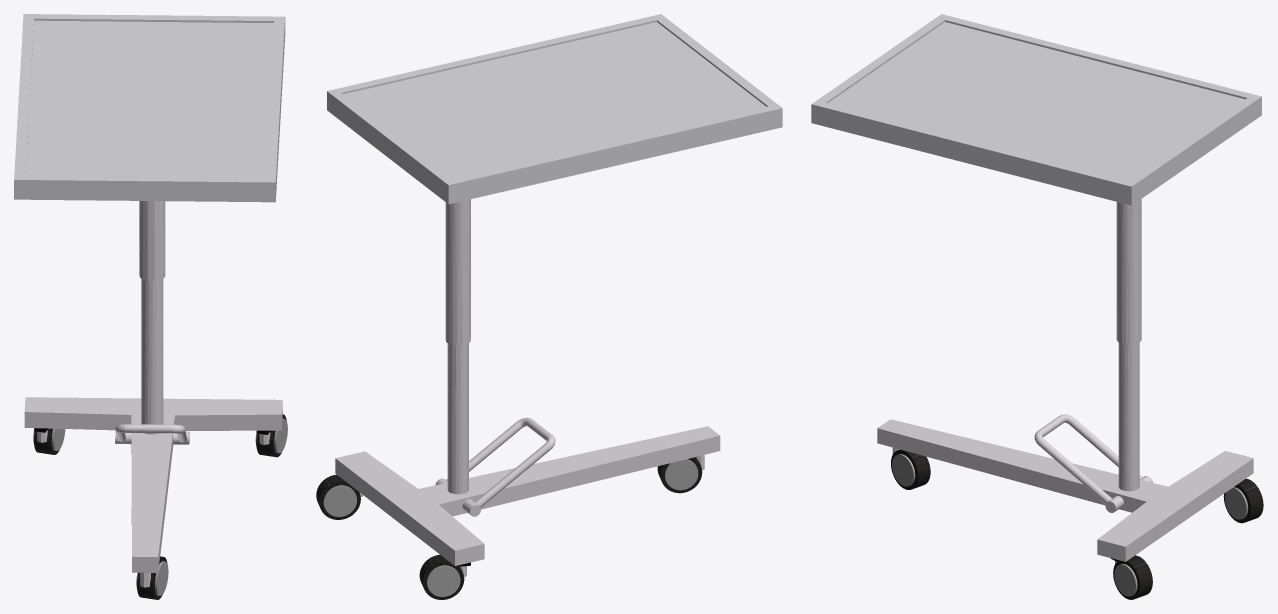
File: Instrumententisch.fbx
The picture shows the model from 3 angles, left to right: view 1: azimuth 30°, elevation 25°; view 2: azimuth 150°, elevation 25°; view 3: azimuth 270°, elevation 25°; orthographic projection. The views are drawn at different scales.
Visible parts, largest first — view 1: Stahl, rostfrei, Metal - Stainless Steel, Asphalt, Farbe, grau; view 2: Stahl, rostfrei, Metal - Stainless Steel, Farbe, grau, Asphalt; view 3: Stahl, rostfrei, Metal - Stainless Steel, Asphalt, Farbe, grau.
Part boxes in pixels (x1,y1,x2,y2): Stahl, rostfrei: [14, 14, 285, 202]; Metal - Stainless Steel: [24, 201, 282, 587]; Asphalt: [34, 414, 286, 599]; Farbe, grau: [33, 418, 287, 595]; Stahl, rostfrei: [327, 14, 782, 204]; Metal - Stainless Steel: [335, 199, 720, 577]; Farbe, grau: [323, 459, 698, 596]; Asphalt: [316, 457, 702, 599]; Stahl, rostfrei: [811, 14, 1261, 205]; Metal - Stainless Steel: [877, 199, 1253, 563]; Asphalt: [891, 449, 1263, 599]; Farbe, grau: [892, 454, 1248, 596].
Size of the model in its own units: 99.82 by 108 by 110.
Materials: 6 (2 with a texture image).
